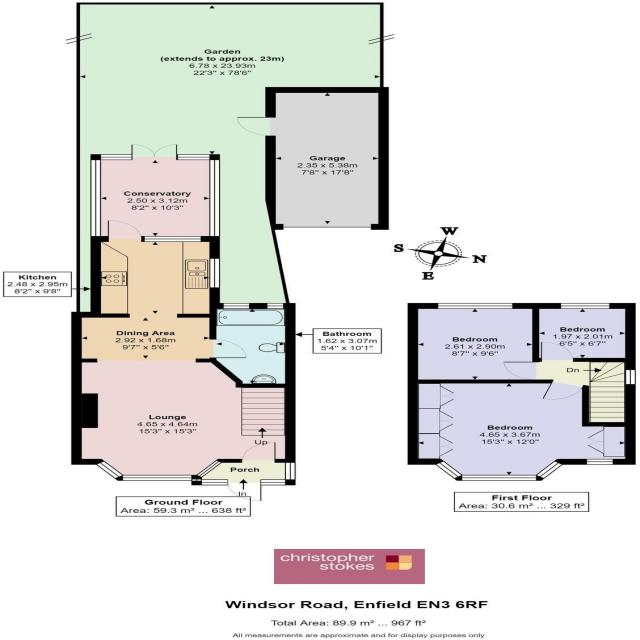DOOR: (542, 379, 585, 400), (107, 220, 142, 242), (241, 441, 276, 463), (209, 338, 247, 358), (539, 341, 575, 361), (503, 361, 538, 380)
ROOM: (71, 220, 296, 481), (407, 379, 636, 481), (407, 303, 539, 384), (532, 303, 636, 362)
WINDOW: (89, 159, 102, 237), (208, 159, 220, 237), (95, 460, 124, 479), (434, 461, 463, 479), (195, 460, 223, 478), (535, 461, 563, 479), (121, 474, 192, 481), (460, 475, 537, 481), (437, 303, 513, 309), (144, 236, 202, 242), (209, 258, 220, 288), (559, 303, 610, 309), (99, 154, 133, 161), (177, 154, 211, 161), (285, 461, 296, 480), (624, 369, 636, 385), (585, 459, 615, 465), (261, 479, 286, 486), (222, 303, 251, 309), (200, 479, 229, 485), (266, 303, 284, 309)
